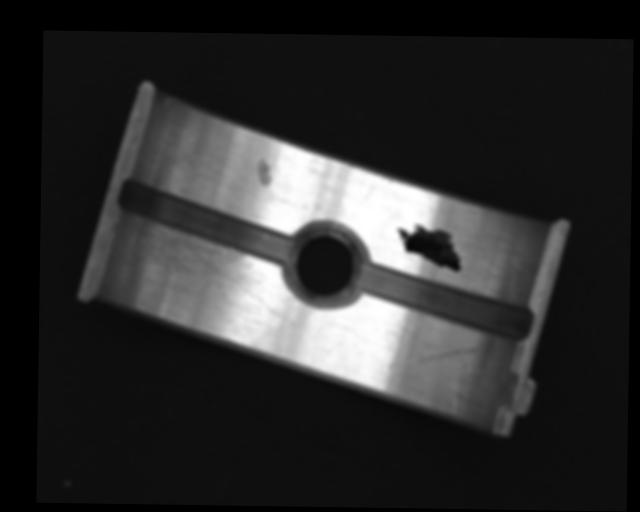blot: (395, 223, 462, 274)
bruise: (256, 158, 273, 187)
gap: (117, 179, 295, 267), (355, 262, 534, 340)
hole: (281, 224, 365, 306)
nick: (387, 344, 481, 372)
scratch: (116, 217, 279, 315)
